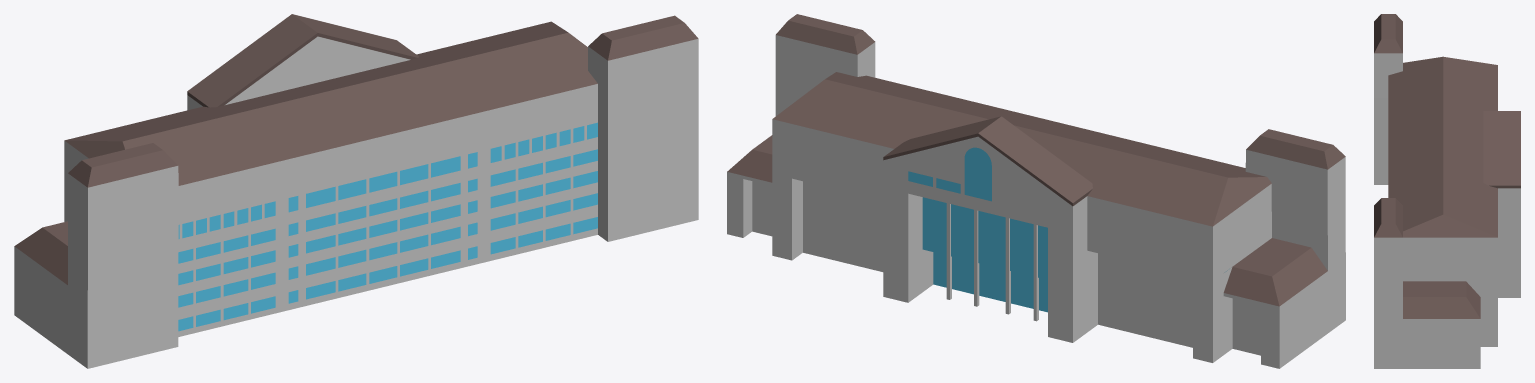
File: HwaDo.glb
The picture shows the model from 3 angles, left to right: view 1: azimuth 30°, elevation 25°; view 2: azimuth 150°, elevation 25°; view 3: azimuth 270°, elevation 25°; orthographic projection. The views are drawn at different scales.
Visible parts, largest first — view 1: Main, Roof, Window; view 2: Main, Roof, Window; view 3: Roof, Main.
Boxes of the visible parts, x1,y1,x2,y2 form: Main: [14, 36, 698, 368]; Roof: [14, 14, 698, 284]; Window: [178, 122, 597, 331]; Main: [727, 35, 1345, 368]; Roof: [727, 14, 1345, 306]; Window: [908, 147, 1227, 312]; Roof: [1374, 14, 1520, 318]; Main: [1374, 53, 1520, 368].
Bounding box in the file's own units: 88.9 × 28.7 × 25.5.
